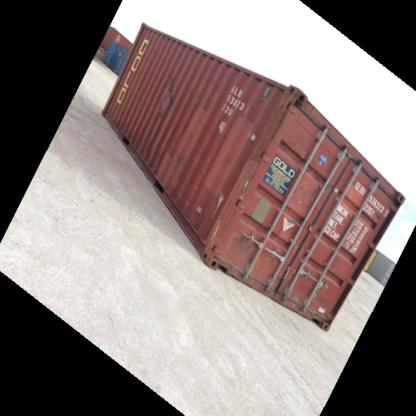Damage: (167, 183, 209, 231), (151, 69, 182, 124), (233, 228, 257, 255), (196, 88, 220, 114), (169, 148, 190, 172), (111, 110, 130, 131)
